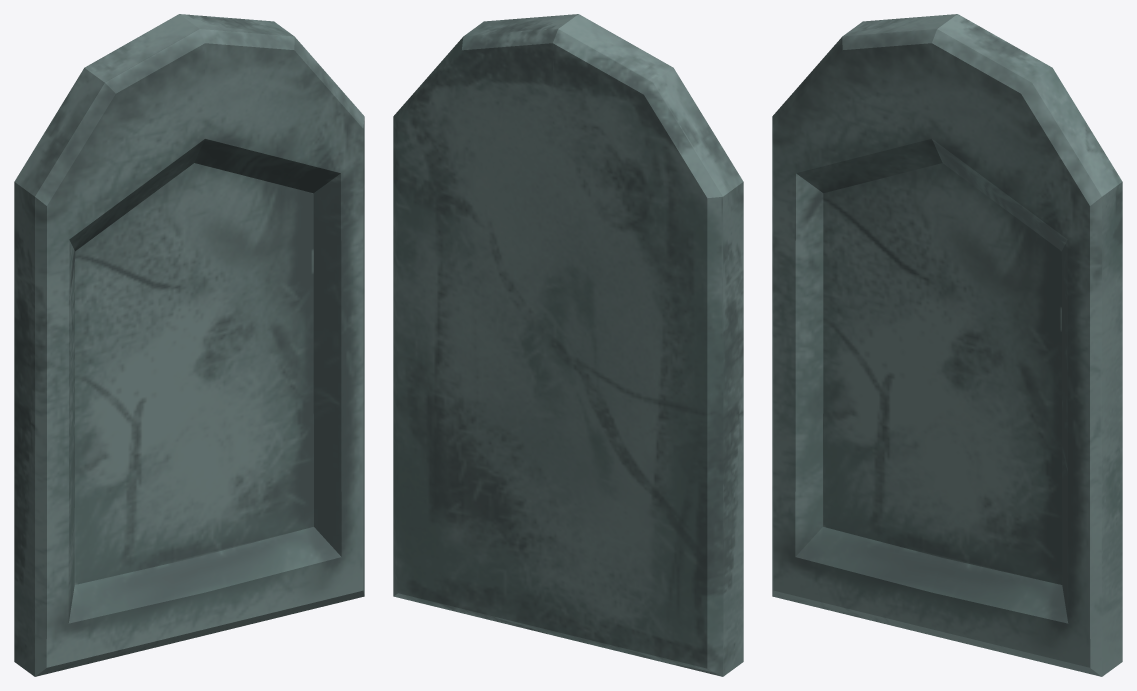
The model's file is tombstone_02.fbx.
The picture shows the model from 3 angles, left to right: view 1: azimuth 30°, elevation 25°; view 2: azimuth 150°, elevation 25°; view 3: azimuth 330°, elevation 25°; orthographic projection.
Visible parts, largest first — view 1: Tombstone_02; view 2: Tombstone_02; view 3: Tombstone_02.
Part boxes in pixels (x1=…): Tombstone_02: x1=14, y1=14, x2=364, y2=676; Tombstone_02: x1=393, y1=14, x2=743, y2=676; Tombstone_02: x1=772, y1=14, x2=1122, y2=676.
Bounding box in the file's own units: 2.86 × 5.04 × 0.4708.
Materials: 1 (1 with a texture image).
